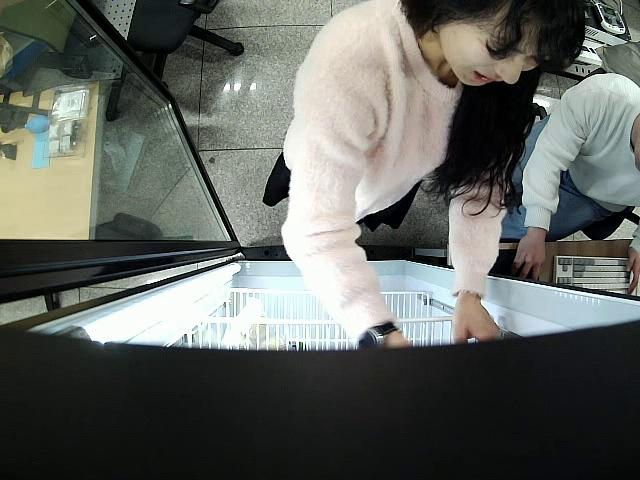00_hand: (447, 303, 507, 345), (512, 234, 549, 279), (621, 249, 639, 297)
